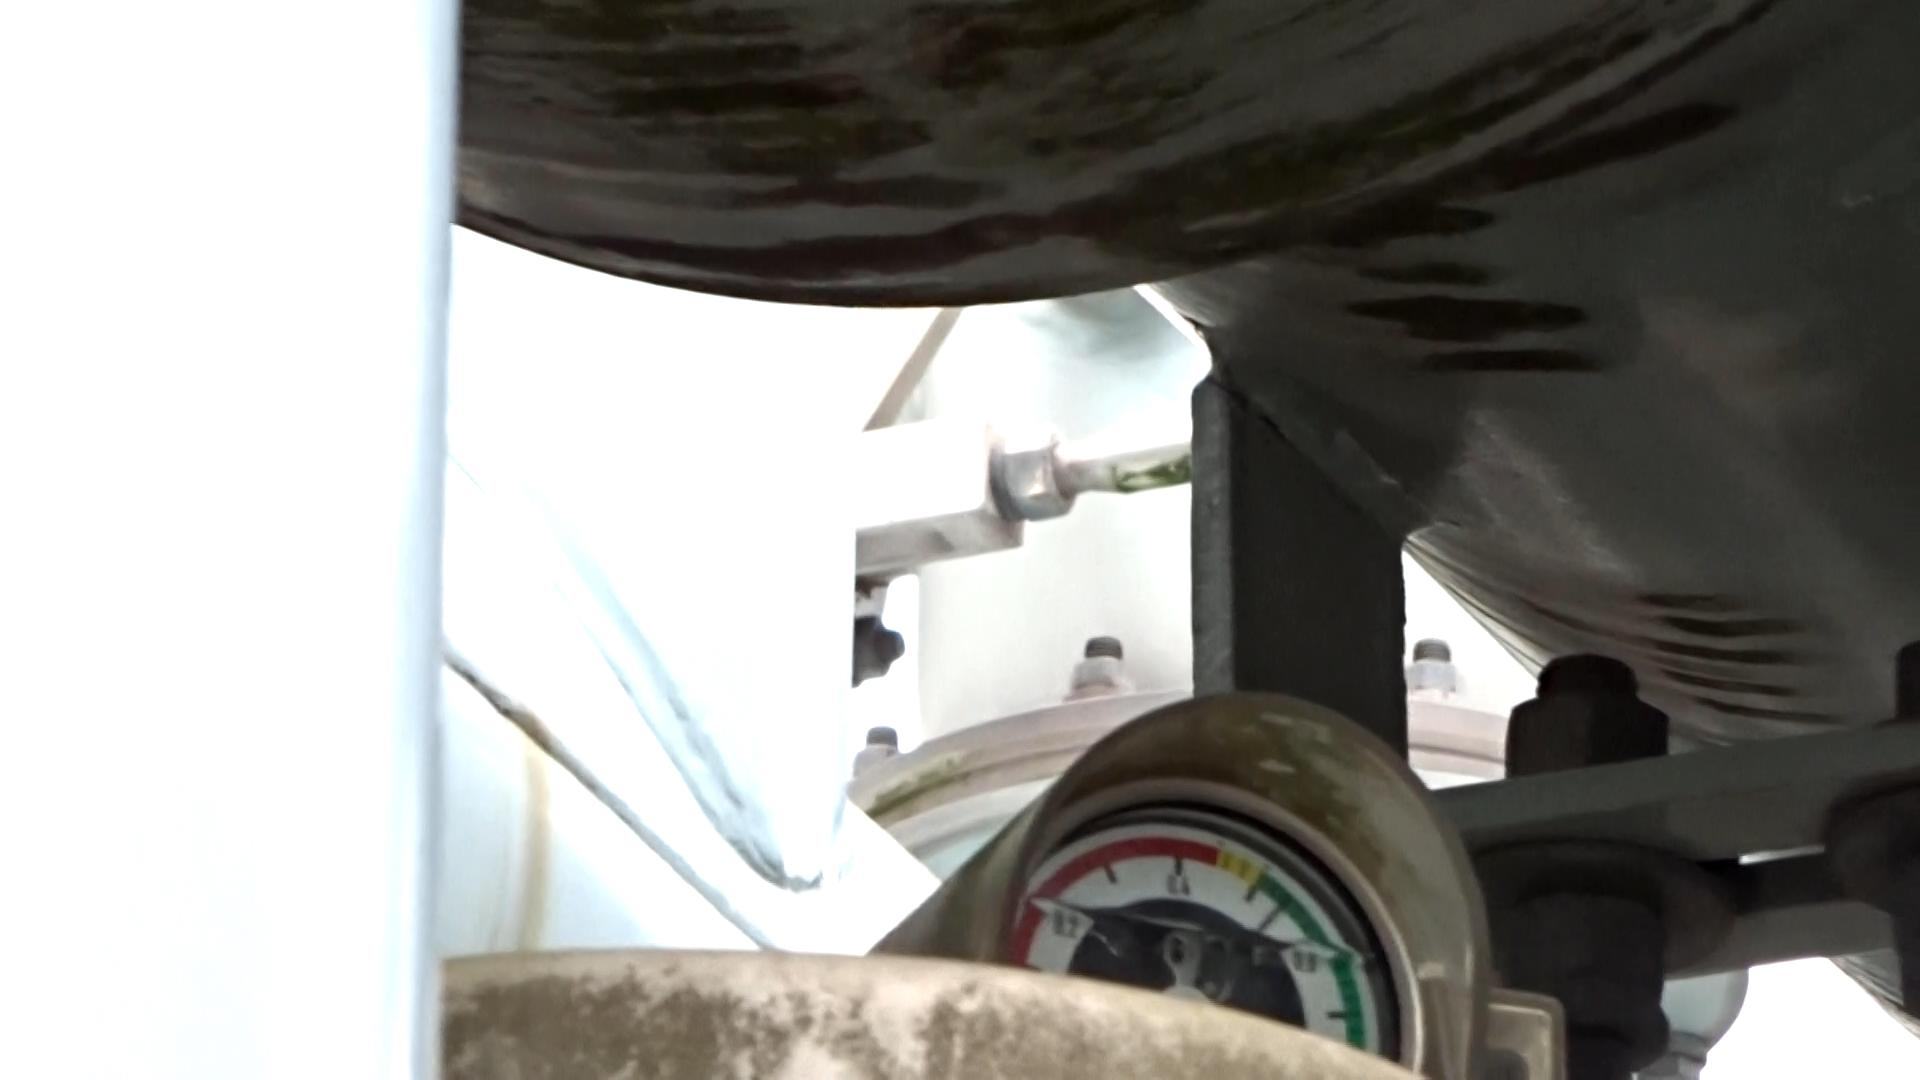instrument: (989, 796, 1415, 1065)
